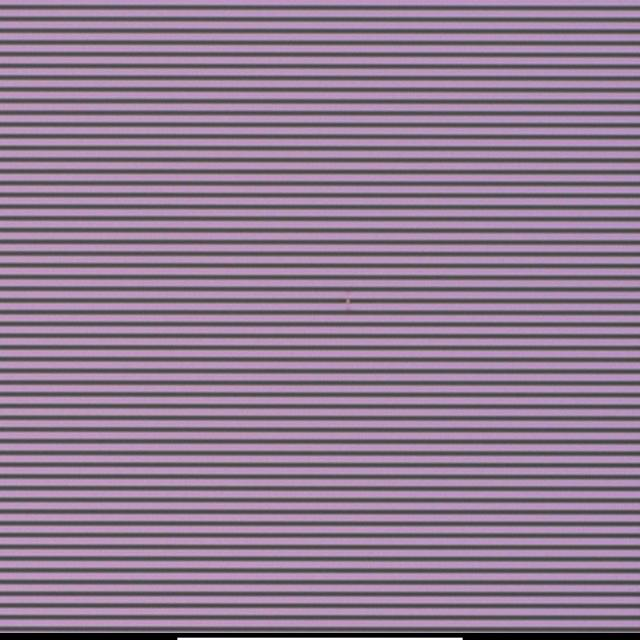03_intrusion: (339, 294, 356, 316)
